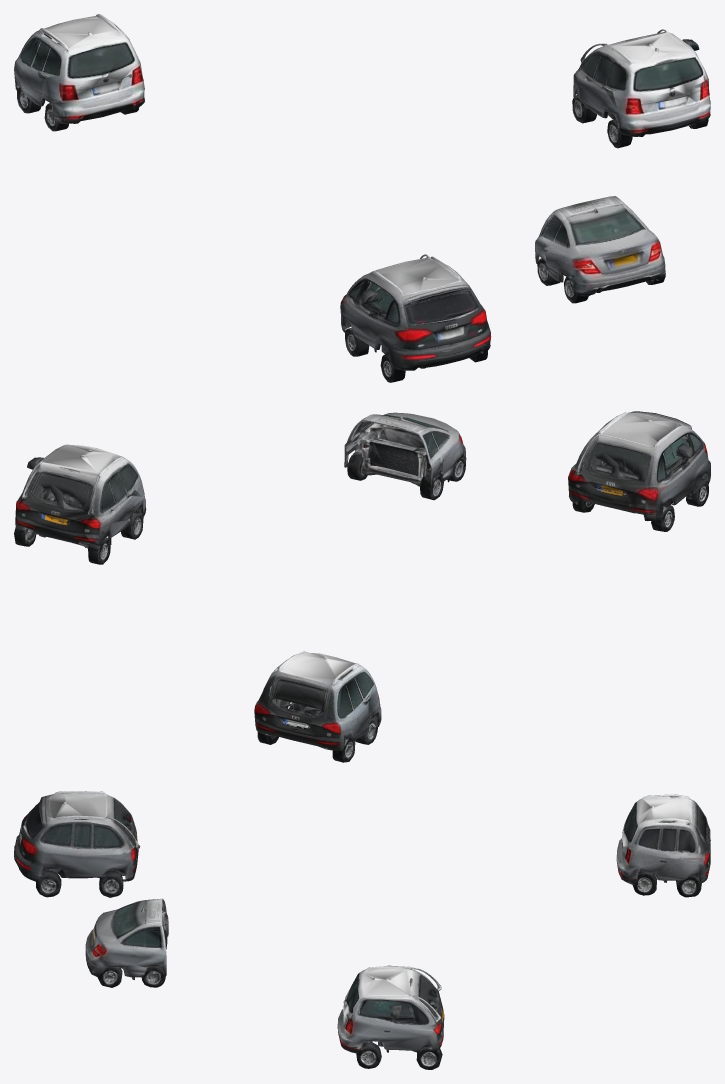
File: voitures.glb
3 renders of one model, top to bottom at view 1: azimuth 30°, elevation 25°; view 2: azimuth 150°, elevation 25°; view 3: azimuth 270°, elevation 25°, orthographic. The views are drawn at different scales.
Size of the model in its own units: 1.41 by 0.2294 by 1.89.
1 material, 1 textured.
